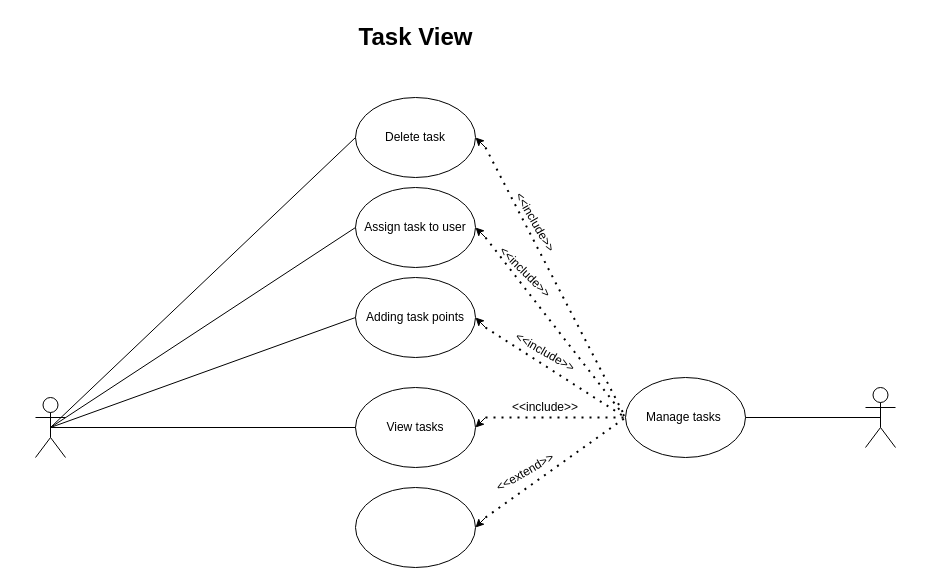
The diagram is 933 pixels wide and 585 high, and some of its shapes have lost their labels. The shapes that lost their labels are listed below. From the top down, each one's centre as x and y in pixels, then its label:
At point (50, 427): "Normal User".
At point (880, 417): "Administrator".
At point (415, 527): "Add reward points".
